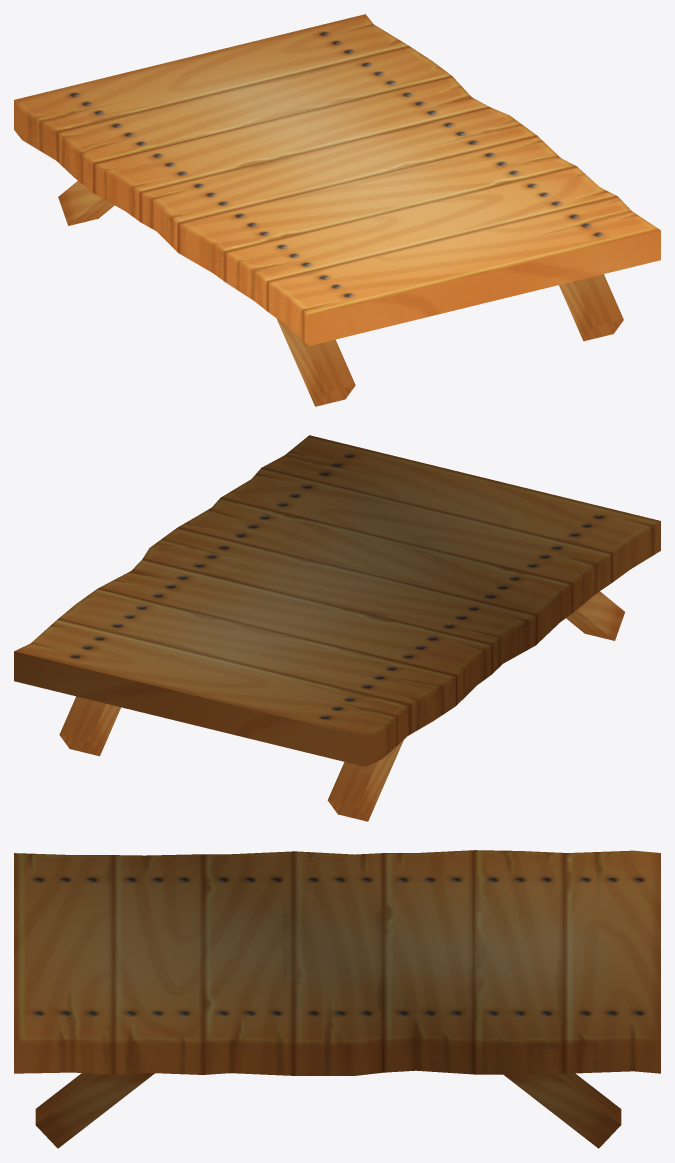
Rendered from WoodenBridge.fbx.
3 views of the same model, one above another, from view 1: azimuth 30°, elevation 25°; view 2: azimuth 150°, elevation 25°; view 3: azimuth 270°, elevation 25° (orthographic). The views are drawn at different scales.
Parts seen in each view (by area): view 1: Mesh_0052_rip; view 2: Mesh_0052_rip; view 3: Mesh_0052_rip.
Boxes of the visible parts, x1,y1,x2,y2 form: Mesh_0052_rip: (14, 14, 660, 406); Mesh_0052_rip: (14, 435, 660, 821); Mesh_0052_rip: (14, 850, 660, 1148).
Bounding box in the file's own units: 27890 × 8239 × 39475.
